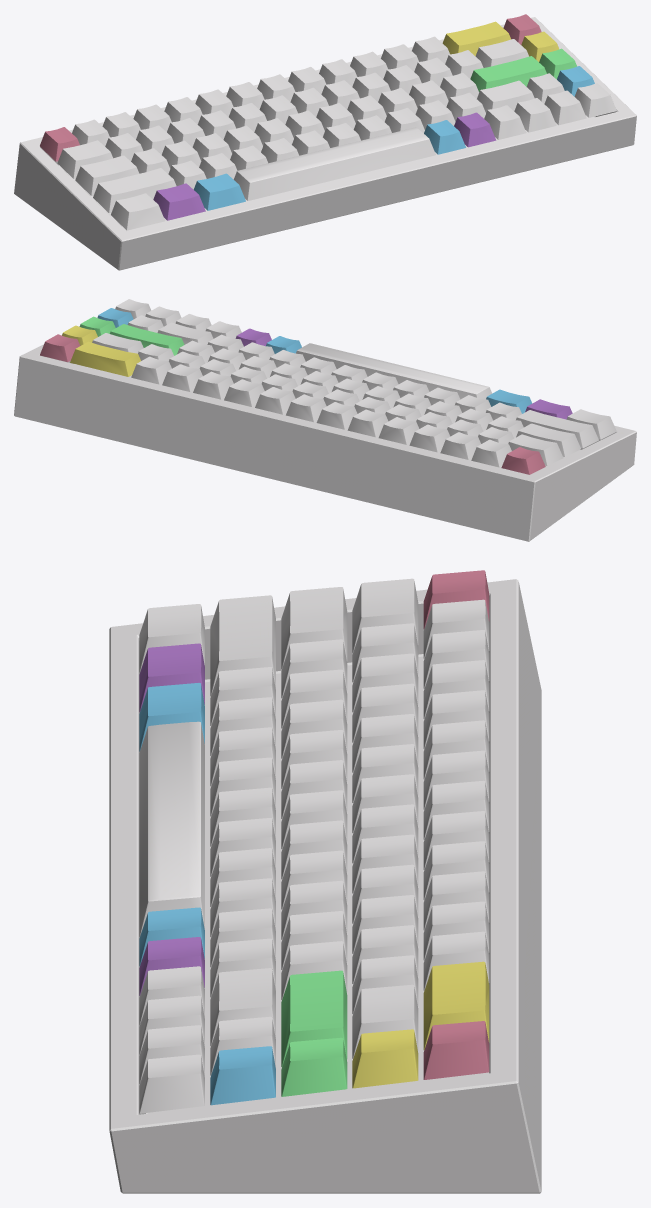
The model's file is mechanical_keyboard.glb.
3 views of the same model, one above another, from view 1: azimuth 30°, elevation 25°; view 2: azimuth 150°, elevation 25°; view 3: azimuth 270°, elevation 25° (orthographic). The views are drawn at different scales.
Parts seen in each view (by area): view 1: Object_4; view 2: Object_4; view 3: Object_4.
Boxes of the visible parts, x1,y1,x2,y2 form: Object_4: (14, 14, 636, 270); Object_4: (14, 299, 636, 541); Object_4: (109, 570, 541, 1193).
Size of the model in its own units: 0.3191 by 0.0432 by 0.1157.
1 material, 1 textured.
